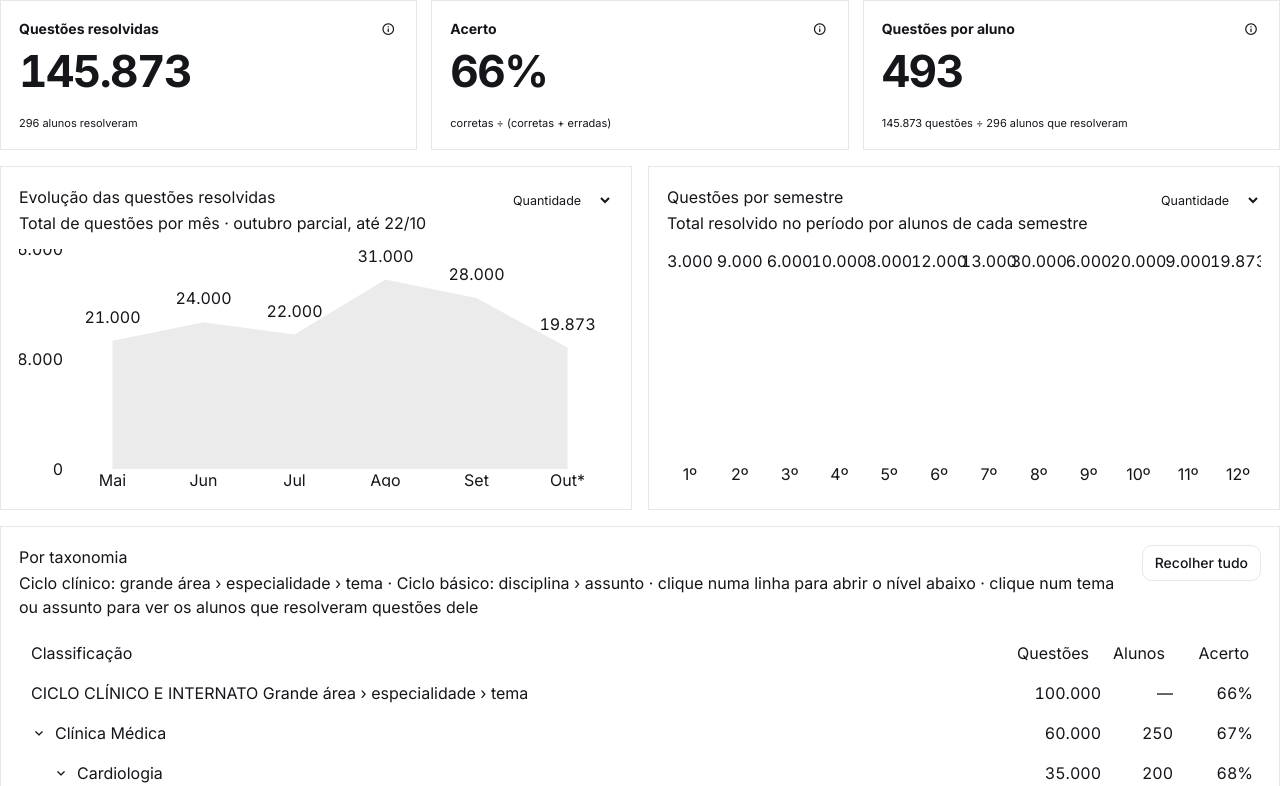
Test: QuestoesEngajamento — Evolução e Por semestre (§12.3) › Por semestre › "% de acerto": título e descrição próprios; sem acerto, "—"
Select "% de acerto" in the dropdown named "Métrica por semestre" at (1204, 200), box [1146, 185, 1261, 215]
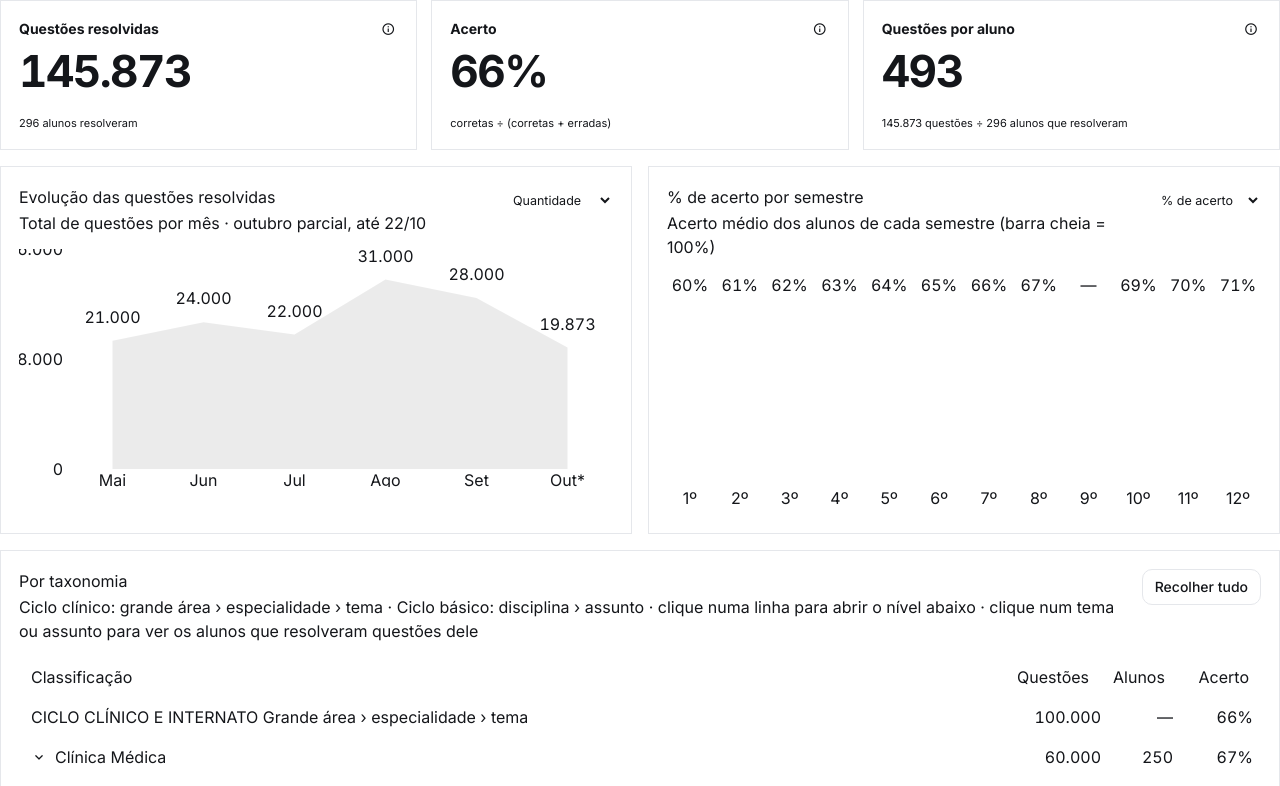
Check: the heading "% de acerto por semestre" is shown, box [667, 187, 864, 207]
Check: the text "Acerto médio dos alunos de cada semestre (barra cheia = 100%)" is shown, box [667, 211, 1130, 259]
